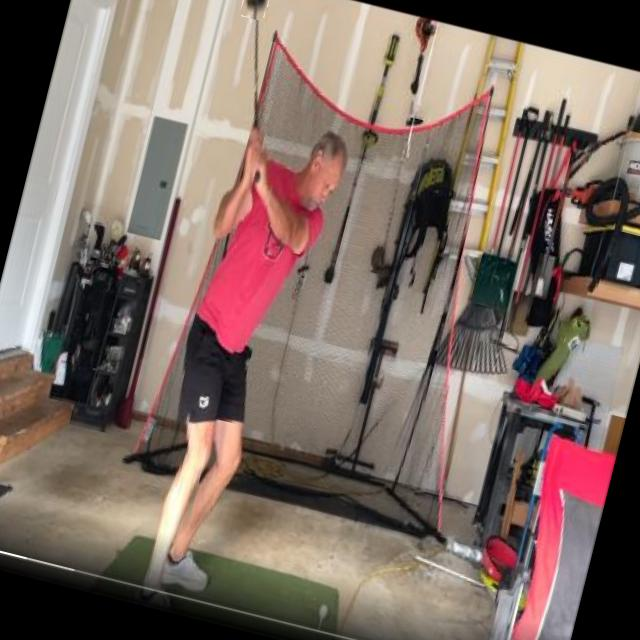club head: (239, 0, 275, 21)
